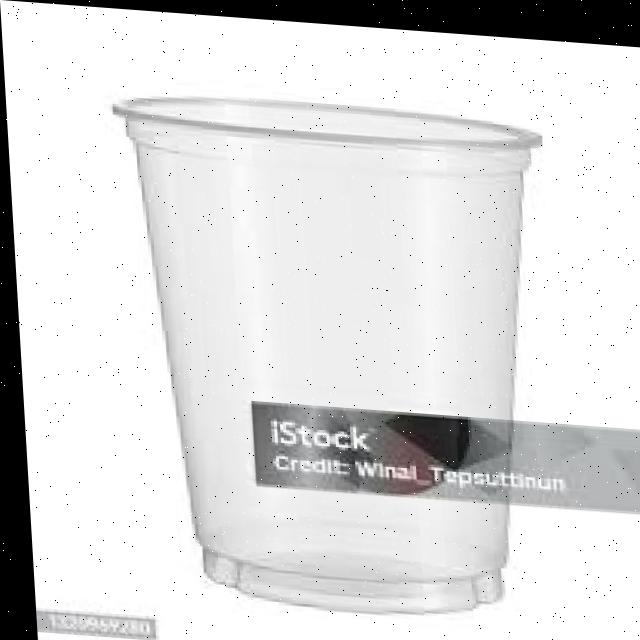cup: (78, 19, 593, 640)
